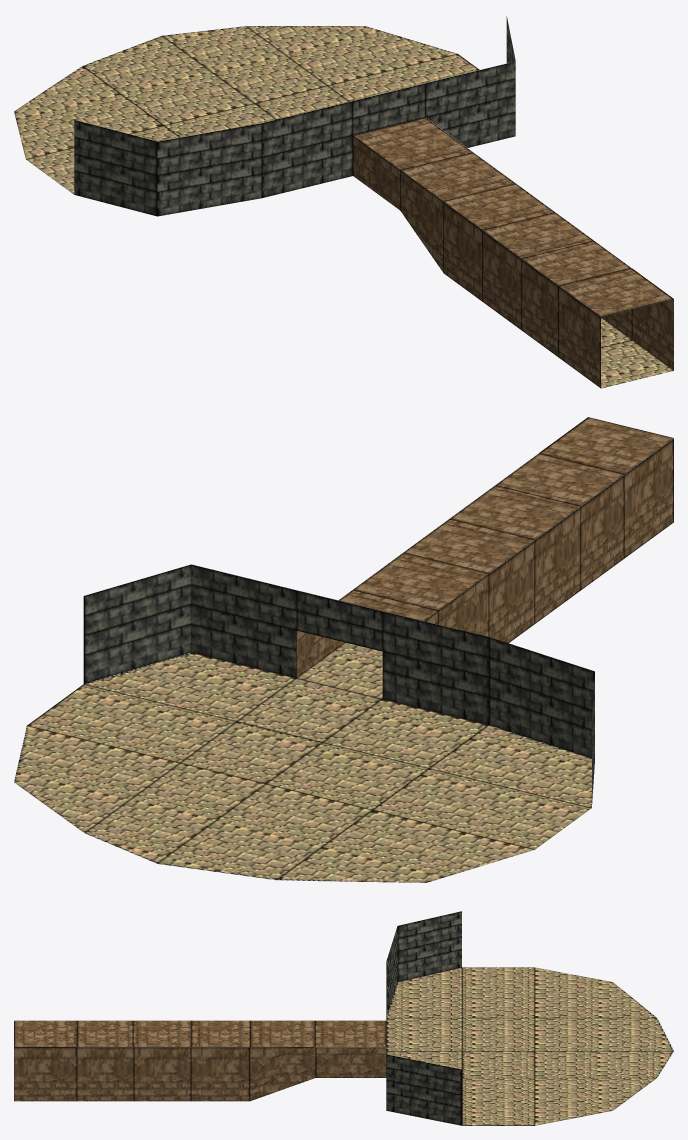
The model's file is test_maze_mapped4.obj.
The picture shows the model from 3 angles, top to bottom: view 1: azimuth 30°, elevation 25°; view 2: azimuth 150°, elevation 25°; view 3: azimuth 270°, elevation 25°; orthographic projection. The views are drawn at different scales.
Parts seen in each view (by area): view 1: mesh01; view 2: mesh01; view 3: mesh01.
Boxes of the visible parts, x1,y1,x2,y2 form: mesh01: (14, 16, 673, 388); mesh01: (14, 417, 673, 882); mesh01: (14, 911, 673, 1125).
Bounding box in the file's own units: 1171 × 275 × 2061.
1 material, 1 textured.
